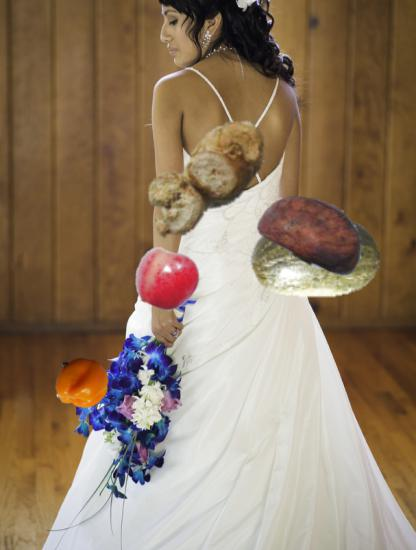Cherry: (134, 247, 199, 312)
Chestnut: (260, 176, 371, 287)
Ginger: (130, 103, 279, 252)
Melon: (249, 190, 380, 321)
Pepper: (54, 355, 110, 411)
